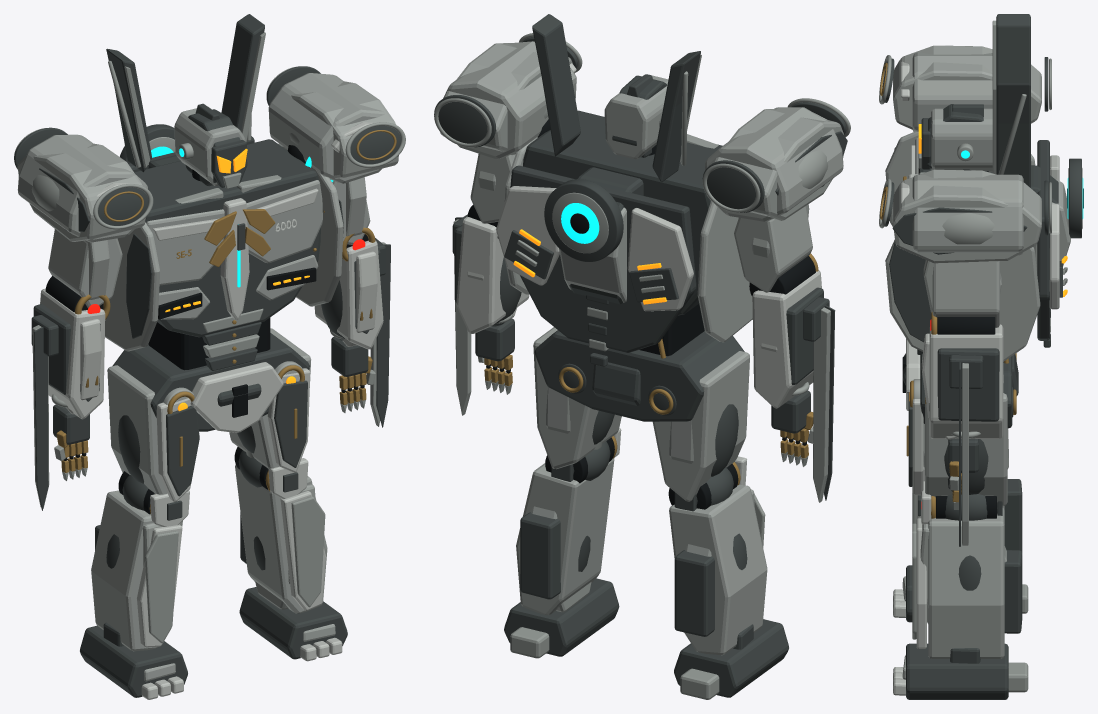
The model's file is pacific-rim-striker.glb.
3 views of the same model, side by side, from view 1: azimuth 30°, elevation 25°; view 2: azimuth 150°, elevation 25°; view 3: azimuth 270°, elevation 25° (orthographic). The views are drawn at different scales.
Visible parts, largest first — view 1: Unified V Torso Core, Left Long Shin Armour, Right Shoulder Pod, Right Long Shin Armour, Left Shoulder Pod, Pelvis Mechanical Cradle, Left Broad Thigh Armour, Right Foot Armour, Front Pelvis Shield, Left Foot Armour, Left Shoulder Side Shell, Right Layered Pectoral Armour (+60 smaller); view 2: Rear Torso Armour, Left Long Shin Armour, Pelvis Mechanical Cradle, Unified V Torso Core, Right Long Shin Armour, Left Broad Thigh Armour, Left Torso Side Armour, Left Shoulder Pod, Right Shoulder Pod, Left Heavy Forearm Armour, Right Heavy Forearm Armour, Left Angular Upper Arm Armour (+44 smaller); view 3: Right Long Shin Armour, Right Shoulder Pod, Right Shoulder Side Shell, Right Foot Armour, Right Torso Side Armour, Right Angular Upper Arm Armour, Left Shoulder Pod, Left Shoulder Side Shell, Right Heavy Forearm Armour, Right Forearm Weapon Housing, Conn Pod Helmet Shell, Right Broad Thigh Armour (+40 smaller).
Part boxes in pixels (left/top/right/bottom): Unified V Torso Core: left=134, top=139, right=320, bottom=337; Left Long Shin Armour: left=91, top=490, right=182, bottom=651; Right Shoulder Pod: left=268, top=73, right=384, bottom=183; Right Long Shin Armour: left=235, top=465, right=327, bottom=613; Left Shoulder Pod: left=17, top=134, right=147, bottom=242; Pelvis Mechanical Cradle: left=112, top=333, right=309, bottom=431; Left Broad Thigh Armour: left=107, top=365, right=167, bottom=494; Right Foot Armour: left=239, top=587, right=347, bottom=659; Front Pelvis Shield: left=190, top=362, right=283, bottom=432; Left Foot Armour: left=80, top=625, right=187, bottom=697; Left Shoulder Side Shell: left=17, top=143, right=145, bottom=241; Right Layered Pectoral Armour: left=246, top=180, right=322, bottom=263; Rear Torso Armour: left=510, top=165, right=696, bottom=352; Left Long Shin Armour: left=669, top=484, right=767, bottom=655; Pelvis Mechanical Cradle: left=534, top=330, right=744, bottom=421; Unified V Torso Core: left=523, top=110, right=722, bottom=315; Right Long Shin Armour: left=516, top=458, right=614, bottom=615; Left Broad Thigh Armour: left=652, top=351, right=749, bottom=501; Left Torso Side Armour: left=697, top=201, right=752, bottom=342; Left Shoulder Pod: left=705, top=107, right=843, bottom=221; Right Shoulder Pod: left=443, top=41, right=576, bottom=159; Left Heavy Forearm Armour: left=752, top=270, right=821, bottom=408; Right Heavy Forearm Armour: left=456, top=216, right=529, bottom=333; Left Angular Upper Arm Armour: left=734, top=206, right=812, bottom=292; Right Long Shin Armour: left=928, top=508, right=1004, bottom=658; Right Shoulder Pod: left=912, top=174, right=1023, bottom=255; Right Shoulder Side Shell: left=893, top=169, right=1041, bottom=263; Right Foot Armour: left=906, top=643, right=1008, bottom=699; Right Torso Side Armour: left=885, top=239, right=1040, bottom=361; Right Angular Upper Arm Armour: left=932, top=261, right=999, bottom=327; Left Shoulder Pod: left=912, top=52, right=992, bottom=131; Left Shoulder Side Shell: left=893, top=45, right=1041, bottom=129; Right Heavy Forearm Armour: left=929, top=324, right=1003, bottom=438; Right Forearm Weapon Housing: left=937, top=348, right=999, bottom=421; Conn Pod Helmet Shell: left=931, top=108, right=992, bottom=172; Right Broad Thigh Armour: left=925, top=393, right=1007, bottom=505.
Size of the model in its own units: 9.1 by 14.58 by 4.5.
